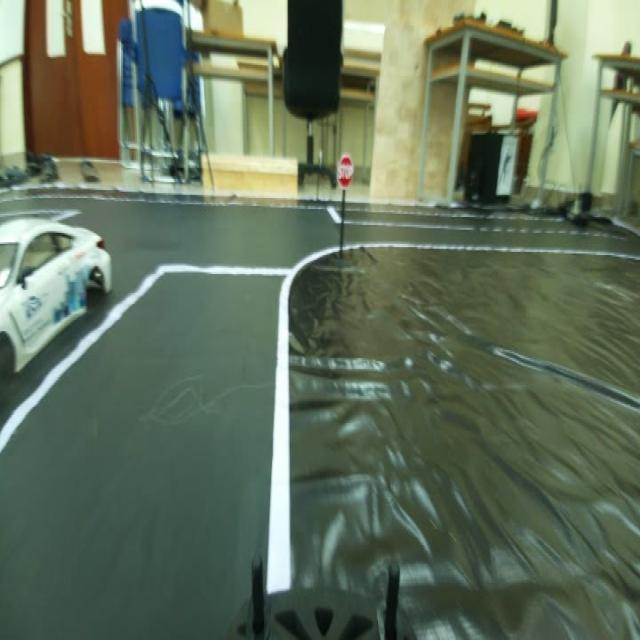stop: (332, 149, 359, 198)
